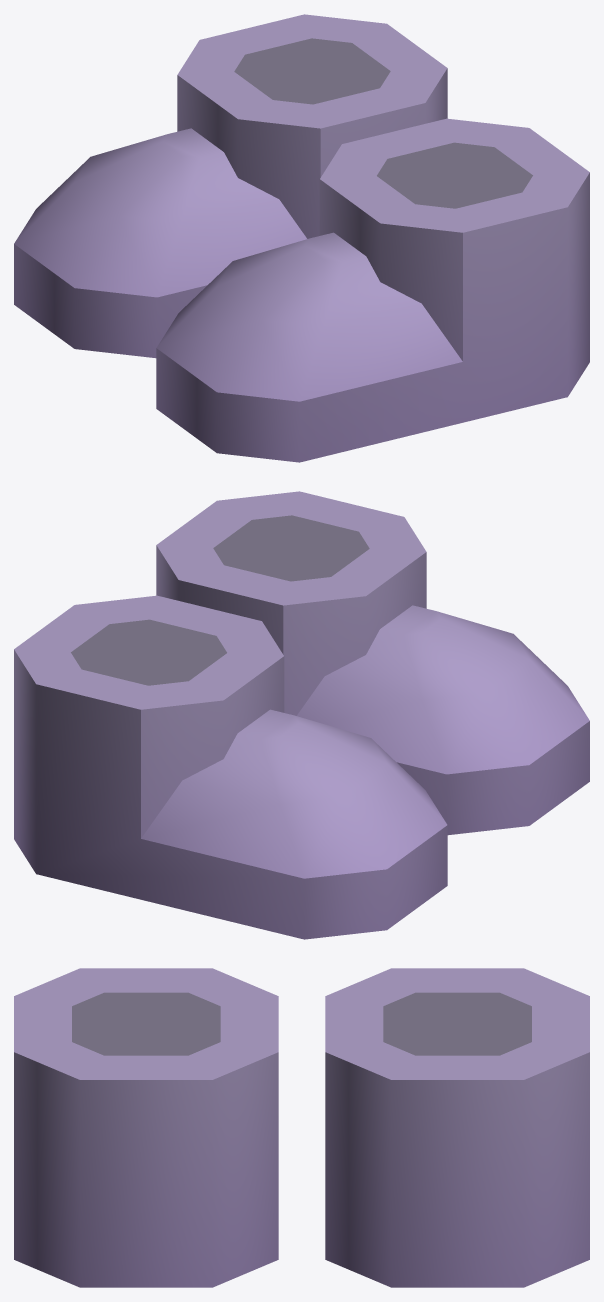
The model's file is shoes-boots_0.glb.
3 views of the same model, one above another, from view 1: azimuth 30°, elevation 25°; view 2: azimuth 150°, elevation 25°; view 3: azimuth 270°, elevation 25° (orthographic). The views are drawn at different scales.
Parts seen in each view (by area): view 1: shoes-boots; view 2: shoes-boots; view 3: shoes-boots.
Part boxes in pixels (box(x1,y1,x2,y2)): shoes-boots: box(14, 14, 589, 462); shoes-boots: box(14, 491, 589, 939); shoes-boots: box(14, 968, 589, 1287).
Size of the model in its own units: 0.3025 by 0.1472 by 0.37.
